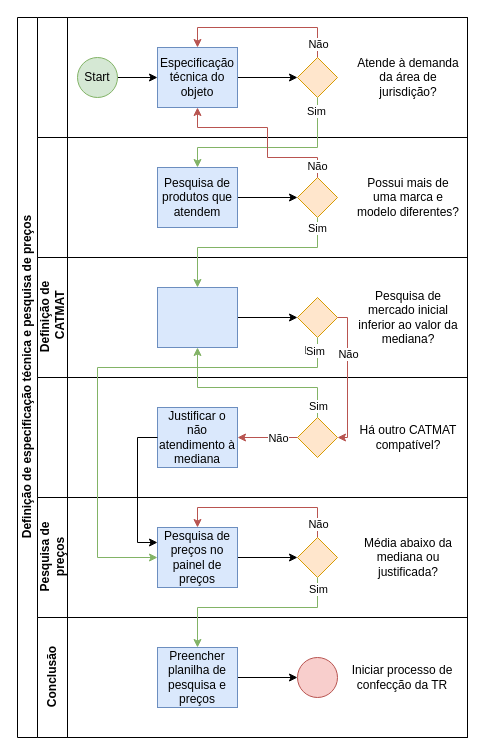
The diagram is 485 pixels wide and 755 high, and some of its shapes have lost their labels. The shapes that lost their labels are listed below. From the top down, each one's box as (x1, y1, x2, y2) in pixels, then its label:
(36, 16, 468, 138): Definição de objetos
(36, 136, 468, 258): Pesquisa de mercado na internet
(156, 286, 238, 348): Definir CATMAT
(36, 376, 468, 498): Justificativa para não usar mediana
(296, 656, 338, 698): Fim
